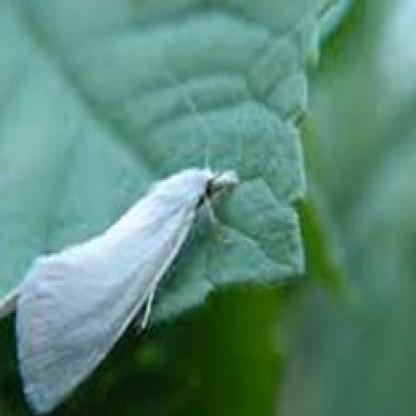stem-borer: (0, 157, 244, 416)
